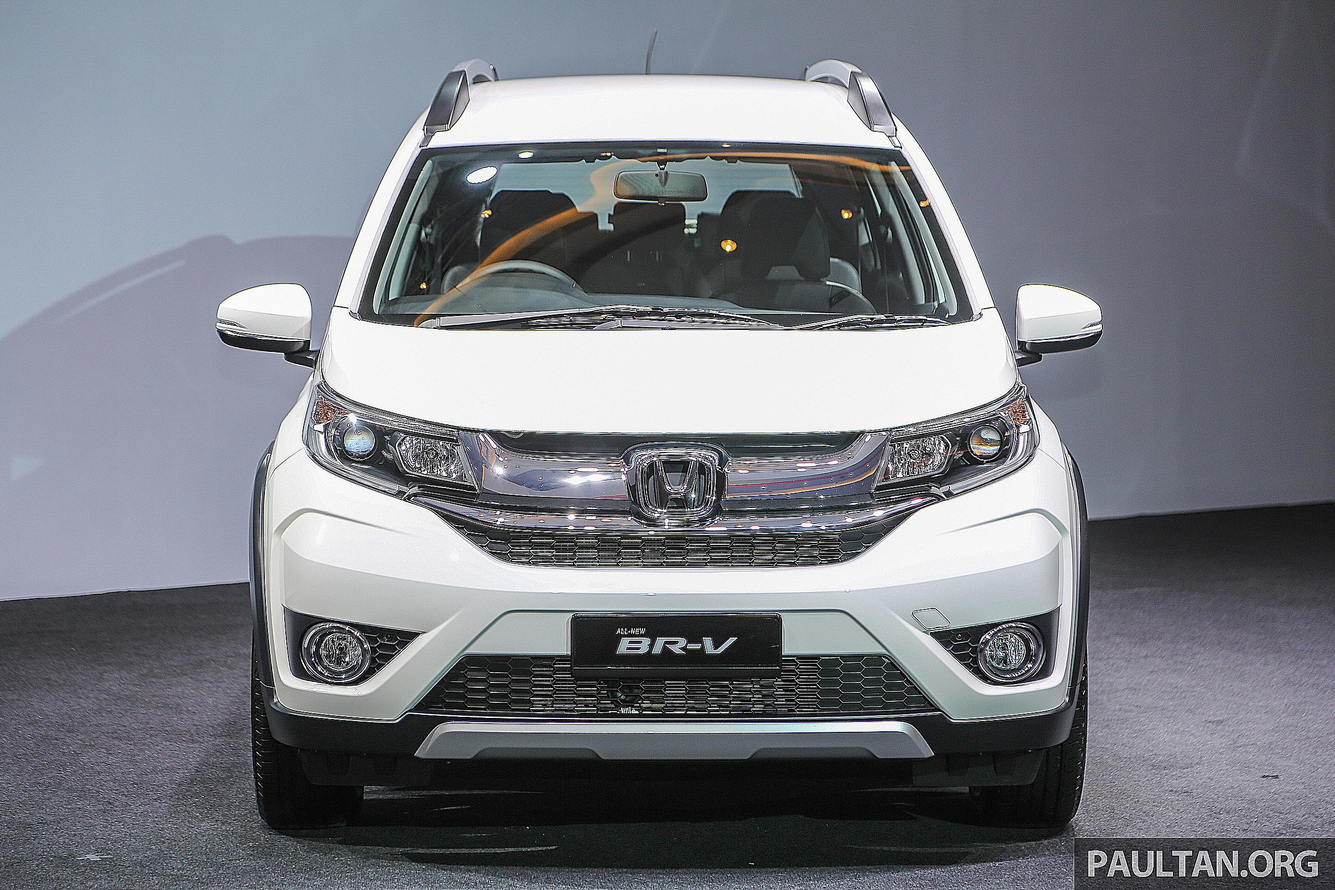Car hood: (318, 313, 1027, 449)
Front bumper: (235, 511, 1098, 787)
Headlight - -L-: (863, 381, 1067, 510)
Headlight - -R-: (300, 394, 491, 501)
Side mirror - -L-: (1007, 271, 1119, 371)
Side mirror - -R-: (204, 271, 337, 361)
